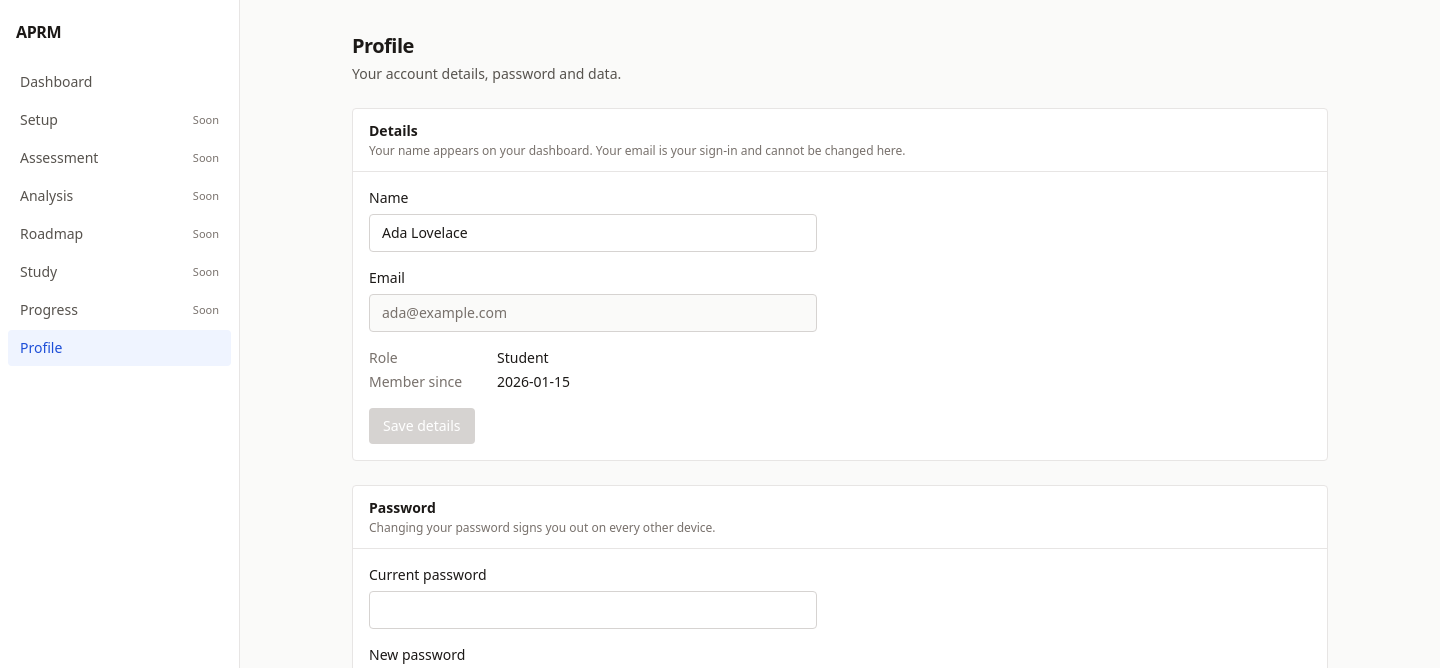
Test: ProfilePage › details › does not submit a name that is too short
Check: the button "Save details" is shown, box x1=369 y1=408 x2=474 y2=444
Replace the text in the field labelled "Name" with "A" at point(593, 233), box x1=369 y1=214 x2=817 y2=252
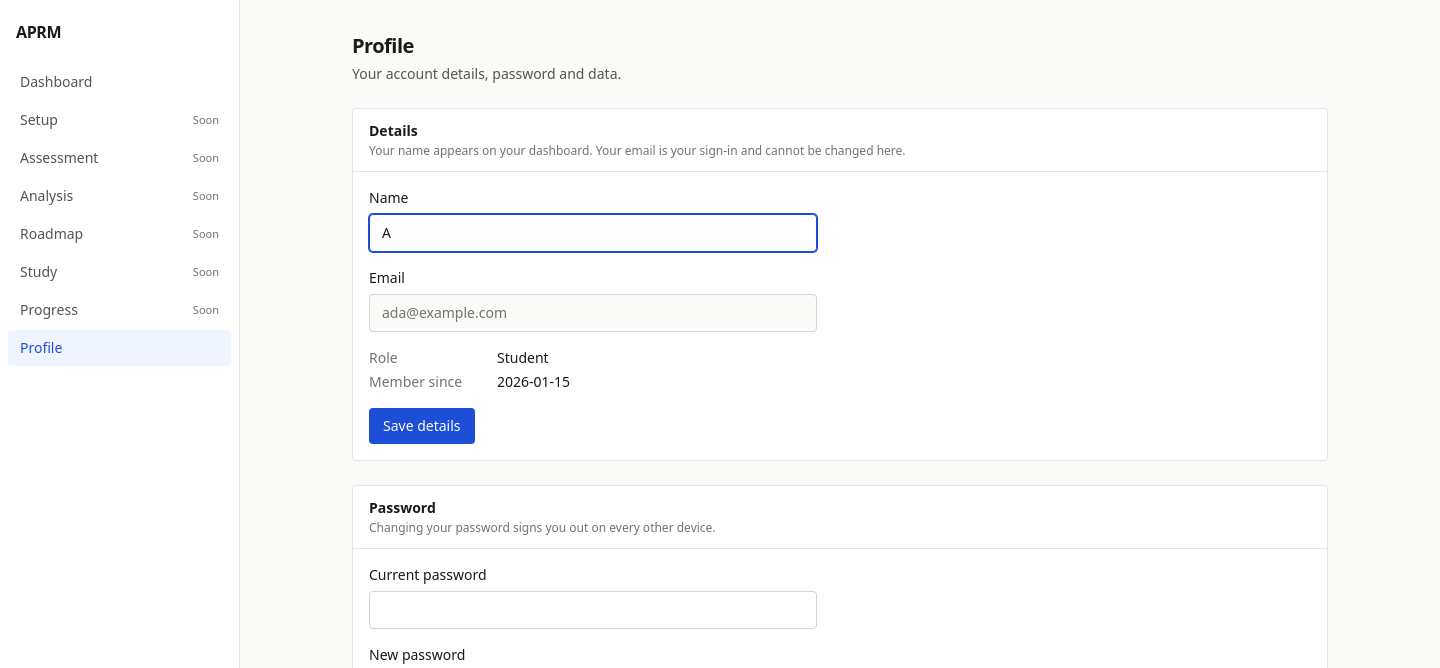
Click the button "Save details" at point(422, 426), box x1=369 y1=408 x2=474 y2=444
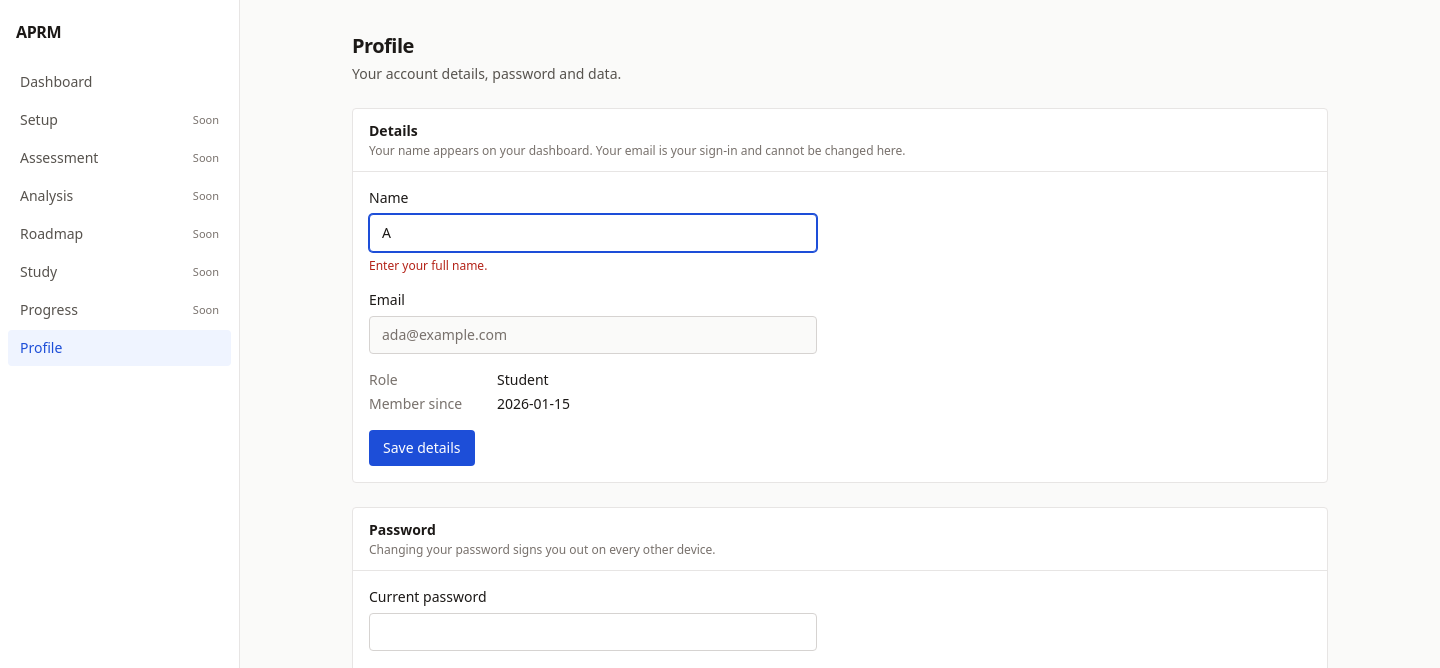
Check: the text "Enter your full name." is shown, box x1=369 y1=257 x2=487 y2=274
